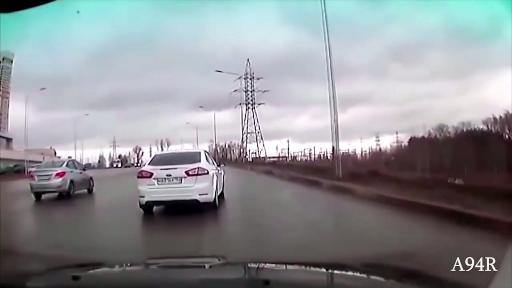CAR: (132, 153, 228, 210), (16, 157, 99, 204)
Truck: (108, 157, 126, 170)
